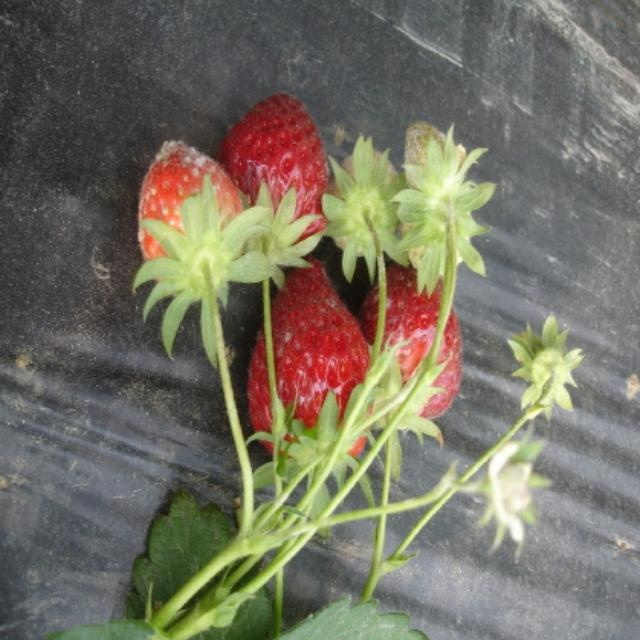Powdery Mildew Fruit: (138, 141, 253, 299)
